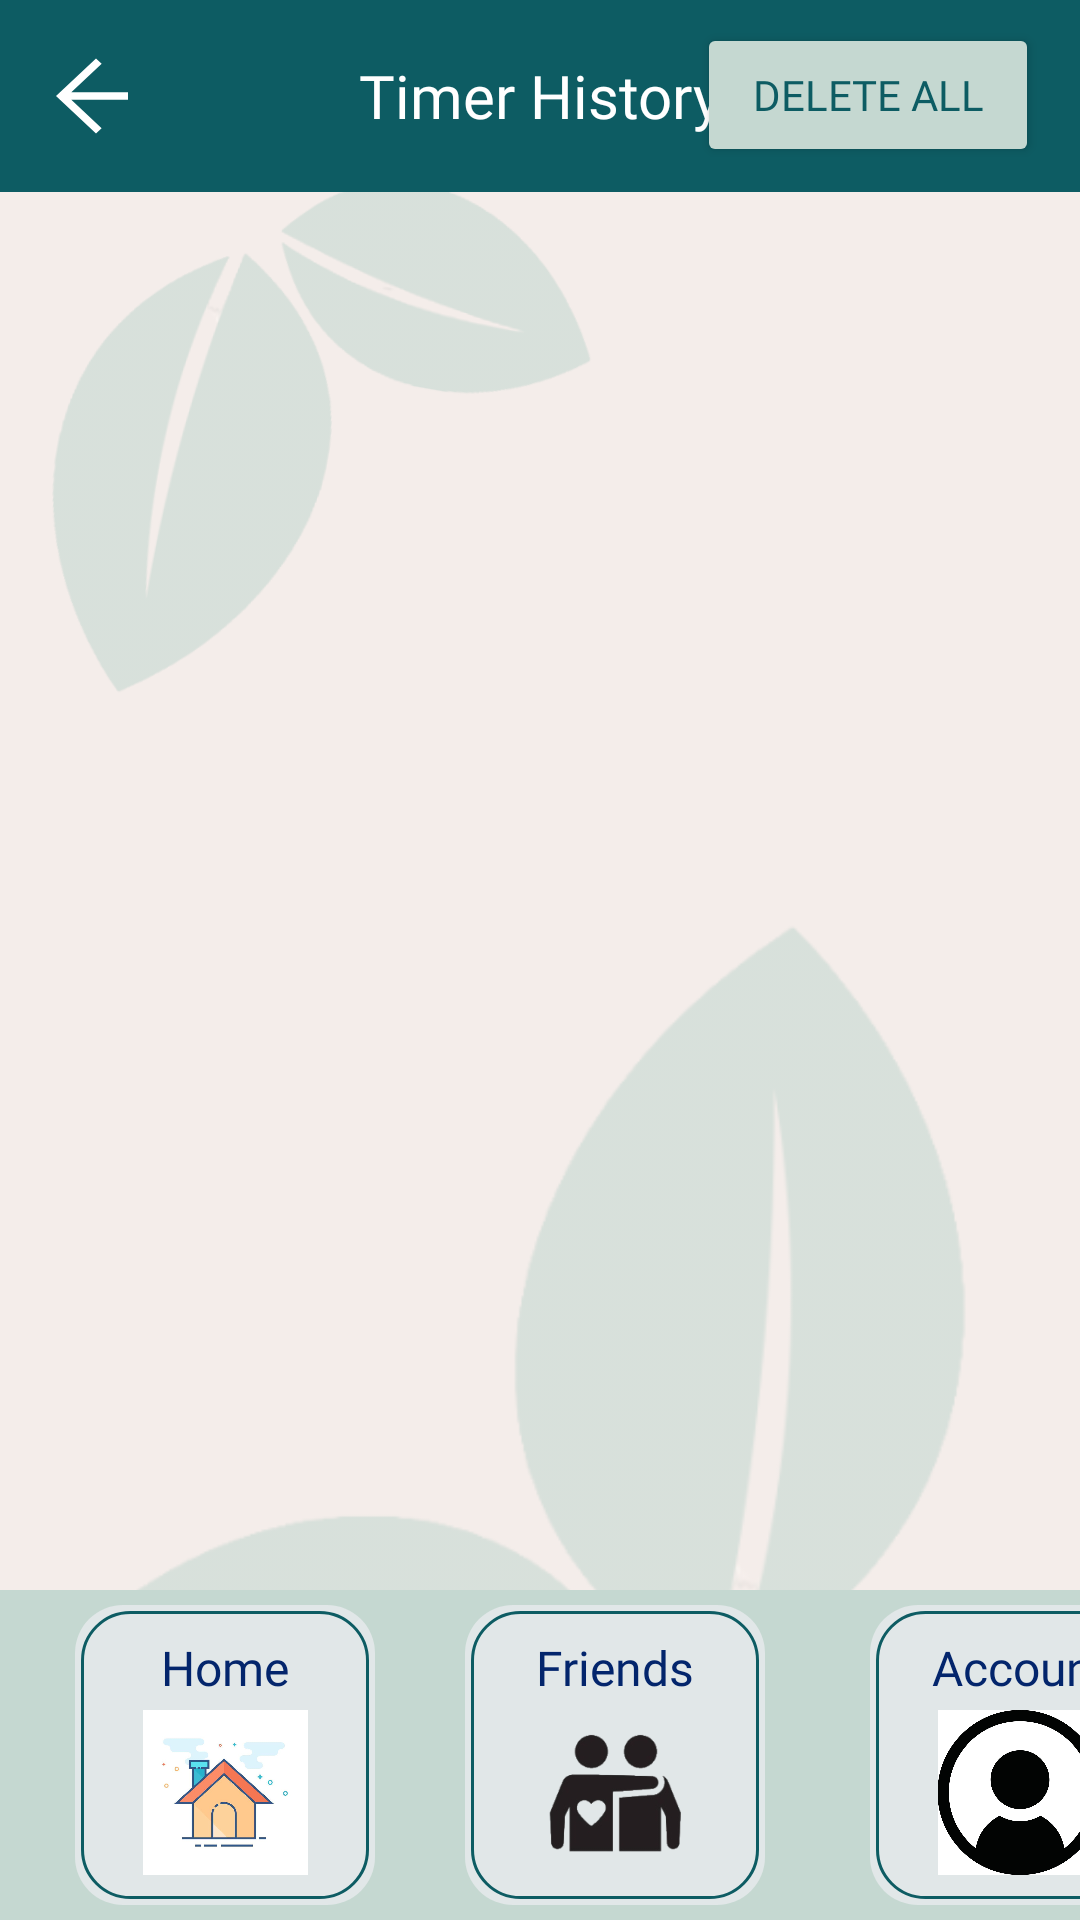

Icons on this 1080px x 1920px Android screen, each with its box as (x1, y1, x2, y2):
Back: (56, 58, 128, 134)
